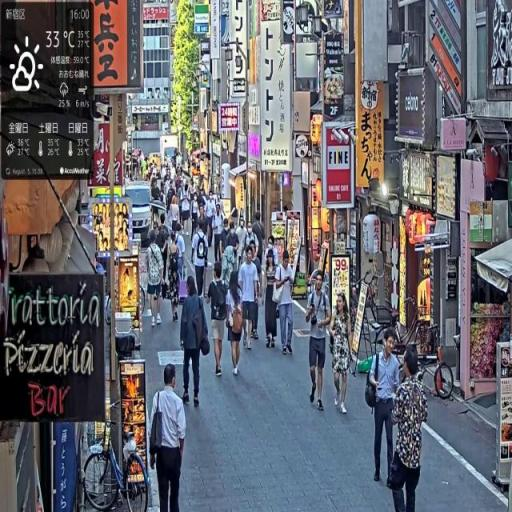person: (389, 346, 428, 512), (148, 362, 187, 512), (366, 330, 402, 487), (180, 275, 213, 410), (306, 271, 333, 414), (329, 292, 354, 417), (208, 262, 232, 379), (274, 248, 296, 359), (239, 246, 261, 351), (227, 276, 247, 380), (147, 231, 167, 328), (192, 213, 212, 300)
